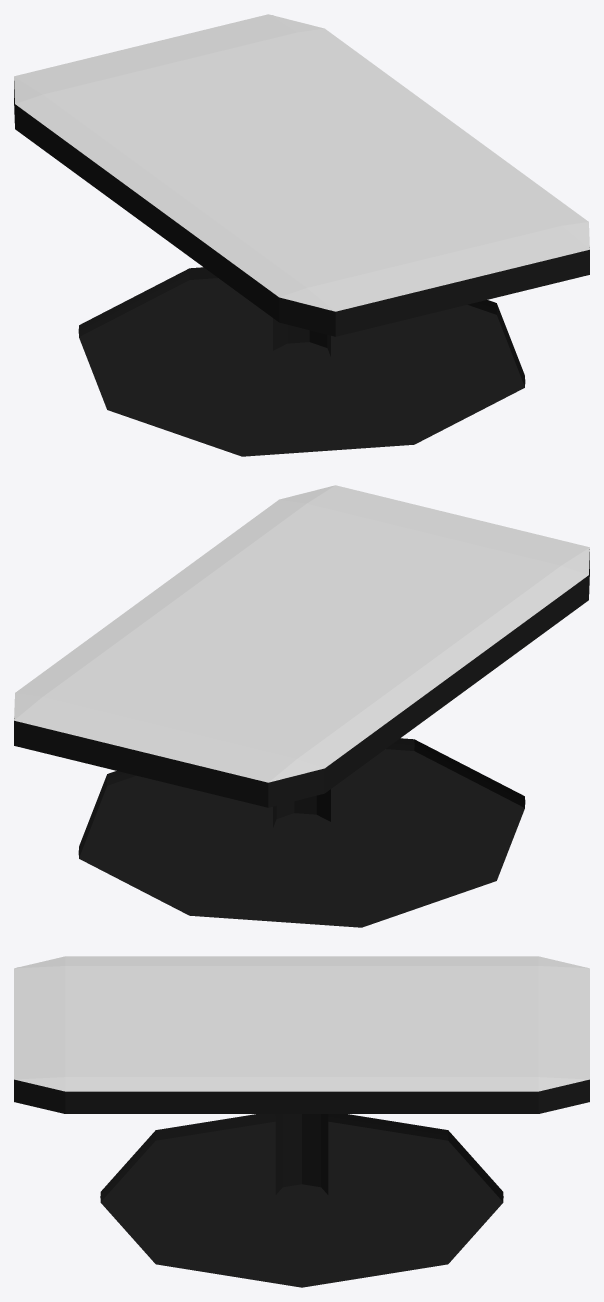
The model's file is PraedatumTable.glb.
3 views of the same model, one above another, from view 1: azimuth 30°, elevation 25°; view 2: azimuth 150°, elevation 25°; view 3: azimuth 270°, elevation 25° (orthographic). The views are drawn at different scales.
Parts seen in each view (by area): view 1: PraedatumTable; view 2: PraedatumTable; view 3: PraedatumTable.
Part boxes in pixels (left/top/right/bottom): PraedatumTable: left=14, top=14, right=589, bottom=456; PraedatumTable: left=14, top=485, right=589, bottom=927; PraedatumTable: left=14, top=956, right=589, bottom=1287.
Bounding box in the file's own units: 1.4 × 0.6937 × 2.
Materials: 1 (1 with a texture image).
